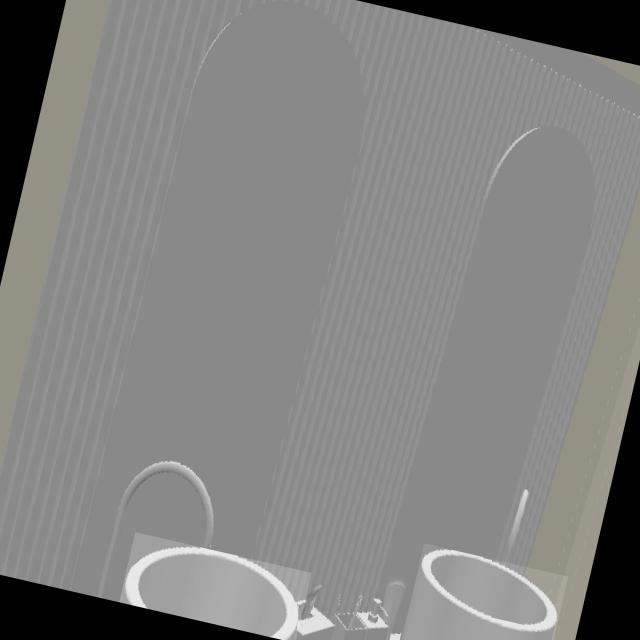washbasin: (124, 547, 300, 640), (412, 550, 558, 640)
